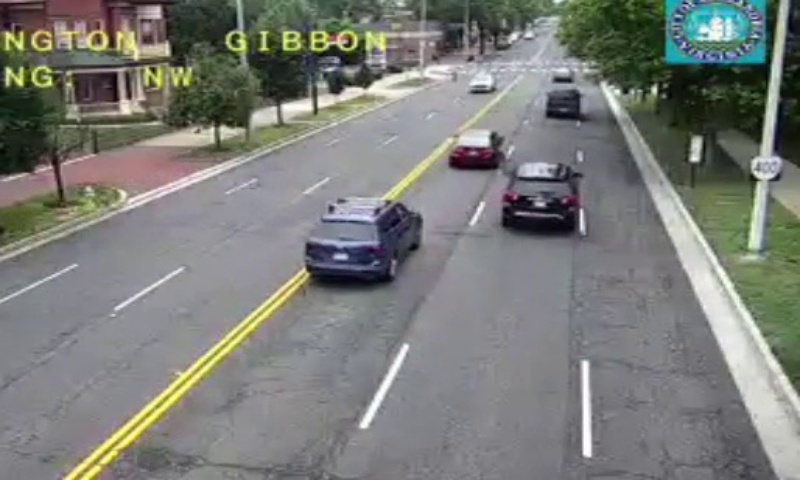car: (303, 197, 420, 275), (501, 161, 580, 220), (448, 128, 502, 167), (544, 90, 580, 117)
